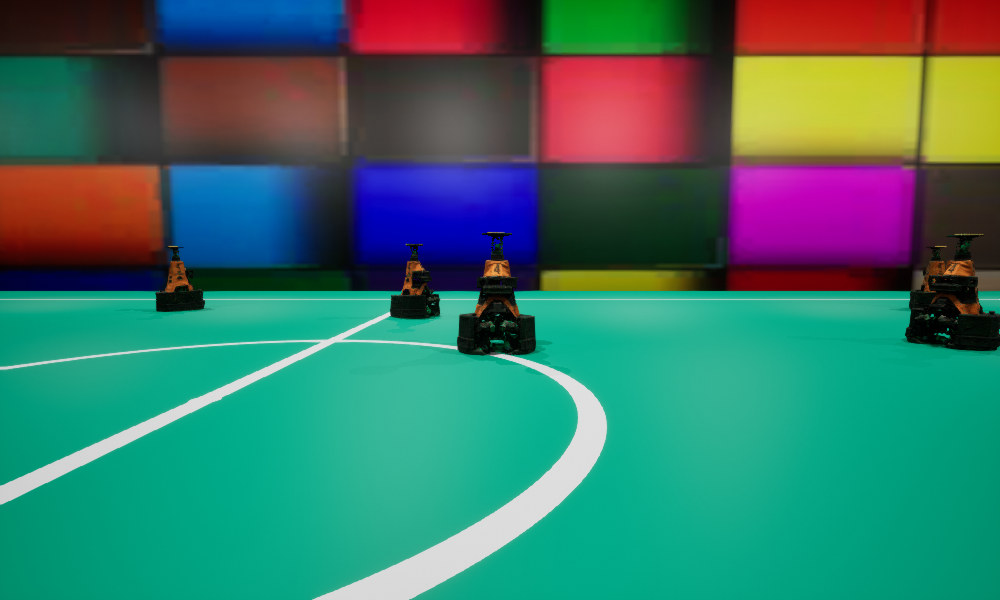0 orange robot TechUnited: (905, 234, 999, 349), (457, 232, 535, 354), (390, 244, 439, 318), (155, 246, 204, 311), (909, 246, 946, 308)
